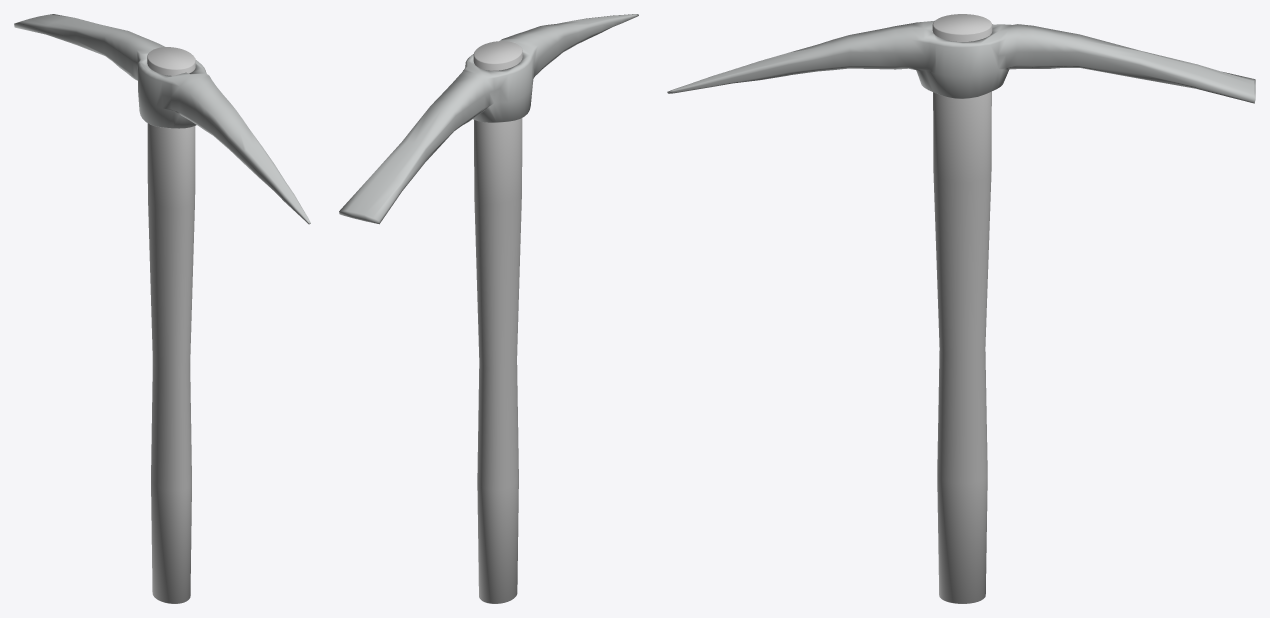
The model's file is PickaxeAlternative.fbx.
3 views of the same model, side by side, from view 1: azimuth 30°, elevation 25°; view 2: azimuth 150°, elevation 25°; view 3: azimuth 270°, elevation 25° (orthographic). The views are drawn at different scales.
Visible parts, largest first — view 1: Cylinder.001, Cube.001; view 2: Cylinder.001, Cube.001; view 3: Cylinder.001, Cube.001.
Boxes of the visible parts, x1,y1,x2,y2 form: Cylinder.001: (147,47,195,603); Cube.001: (14,14,310,224); Cylinder.001: (473,41,522,603); Cube.001: (339,14,638,224); Cylinder.001: (932,14,992,603); Cube.001: (667,20,1255,103).
Size of the model in its own units: 11.14 by 109 by 102.
